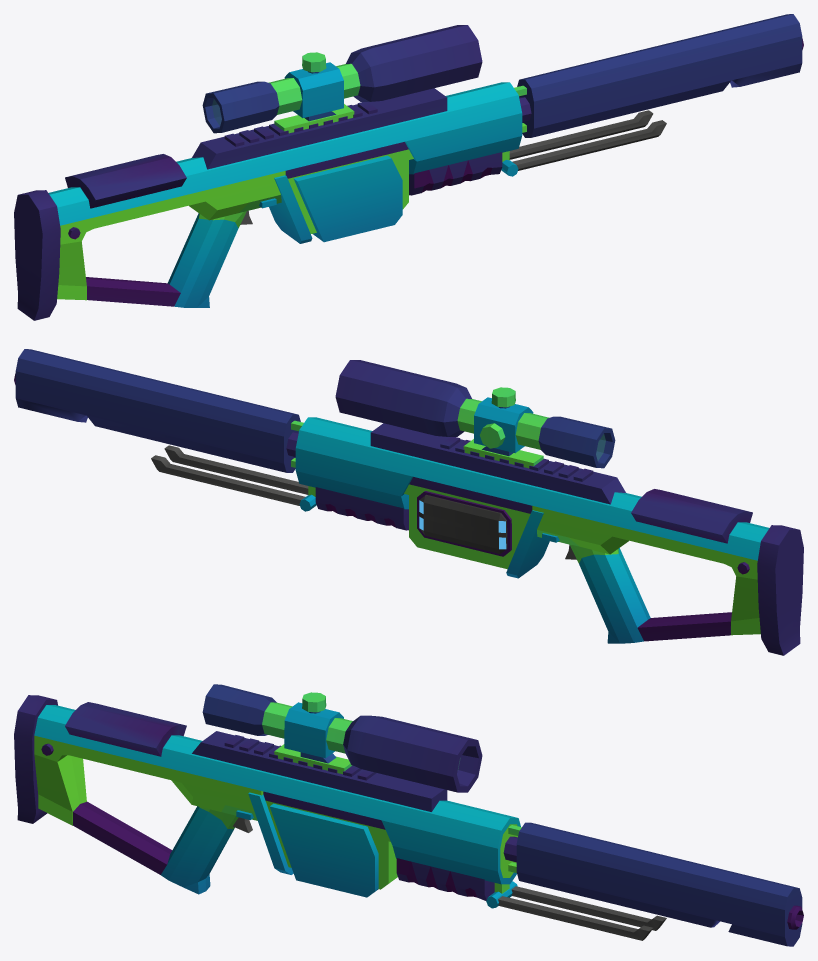
The model's file is SniperRifle_A_mesh.fbx.
3 views of the same model, one above another, from view 1: azimuth 30°, elevation 25°; view 2: azimuth 150°, elevation 25°; view 3: azimuth 330°, elevation 25° (orthographic).
Parts seen in each view (by area): view 1: SniperRifle_A_mesh, Scope_mesh, SniperRifle_Bipod_R_mesh, SniperRifle_Bipod_L_mesh; view 2: SniperRifle_A_mesh, Scope_mesh, Mag_M_mesh, SniperRifle_Bipod_L_mesh, SniperRifle_Bipod_R_mesh; view 3: SniperRifle_A_mesh, Scope_mesh, SniperRifle_Bipod_R_mesh, SniperRifle_Bipod_L_mesh.
Boxes of the visible parts, bbox=[...] form: SniperRifle_A_mesh: bbox=[14, 14, 803, 320]; Scope_mesh: bbox=[202, 25, 482, 133]; SniperRifle_Bipod_R_mesh: bbox=[512, 120, 666, 170]; SniperRifle_Bipod_L_mesh: bbox=[509, 110, 653, 159]; SniperRifle_A_mesh: bbox=[14, 349, 803, 655]; Scope_mesh: bbox=[335, 360, 615, 468]; Mag_M_mesh: bbox=[419, 494, 507, 553]; SniperRifle_Bipod_L_mesh: bbox=[151, 455, 305, 505]; SniperRifle_Bipod_R_mesh: bbox=[164, 445, 308, 494]; SniperRifle_A_mesh: bbox=[14, 695, 803, 946]; Scope_mesh: bbox=[202, 684, 482, 792]; SniperRifle_Bipod_R_mesh: bbox=[498, 896, 653, 940]; SniperRifle_Bipod_L_mesh: bbox=[511, 886, 666, 930].
Size of the model in its own units: 109 by 29.68 by 7.57.
3 materials, 1 textured.
